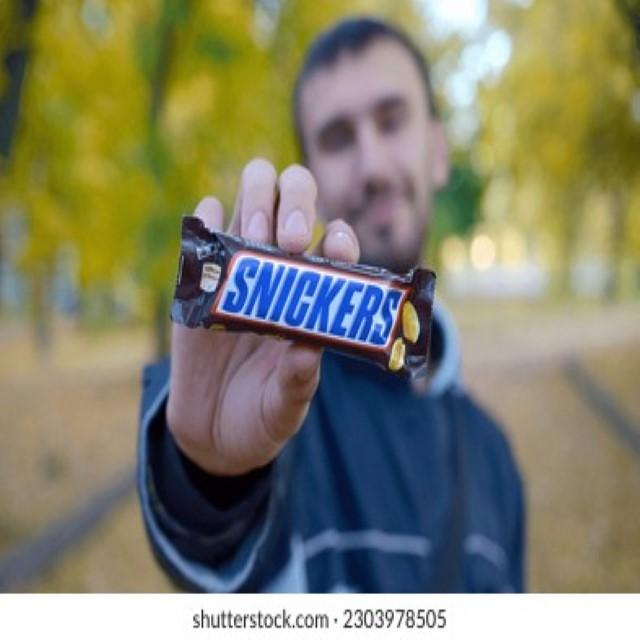snickers_chocolate: (172, 212, 437, 383)
